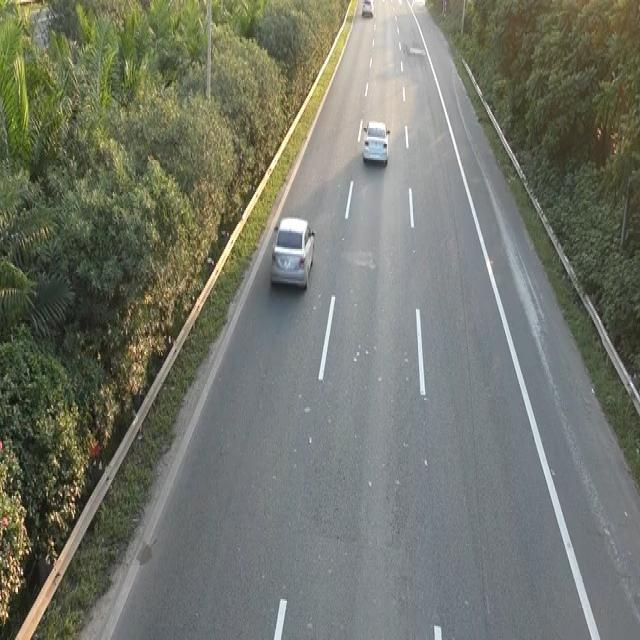bus: (268, 212, 316, 292), (361, 116, 391, 167)
